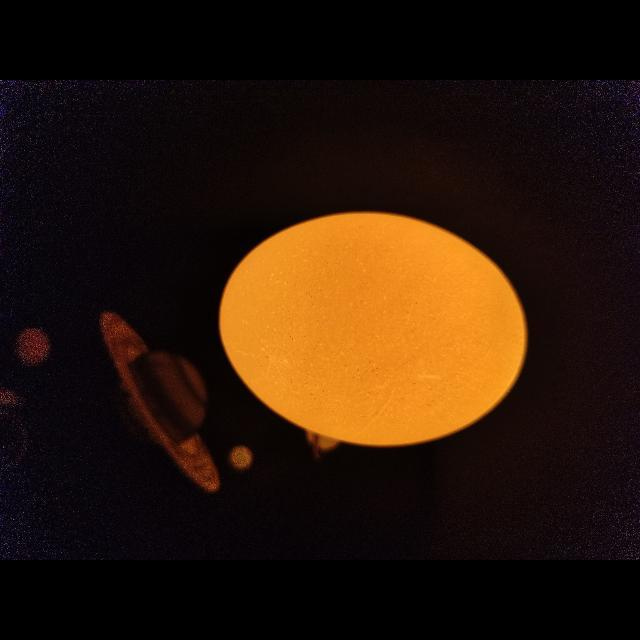AA - Premium: (219, 213, 528, 446)
